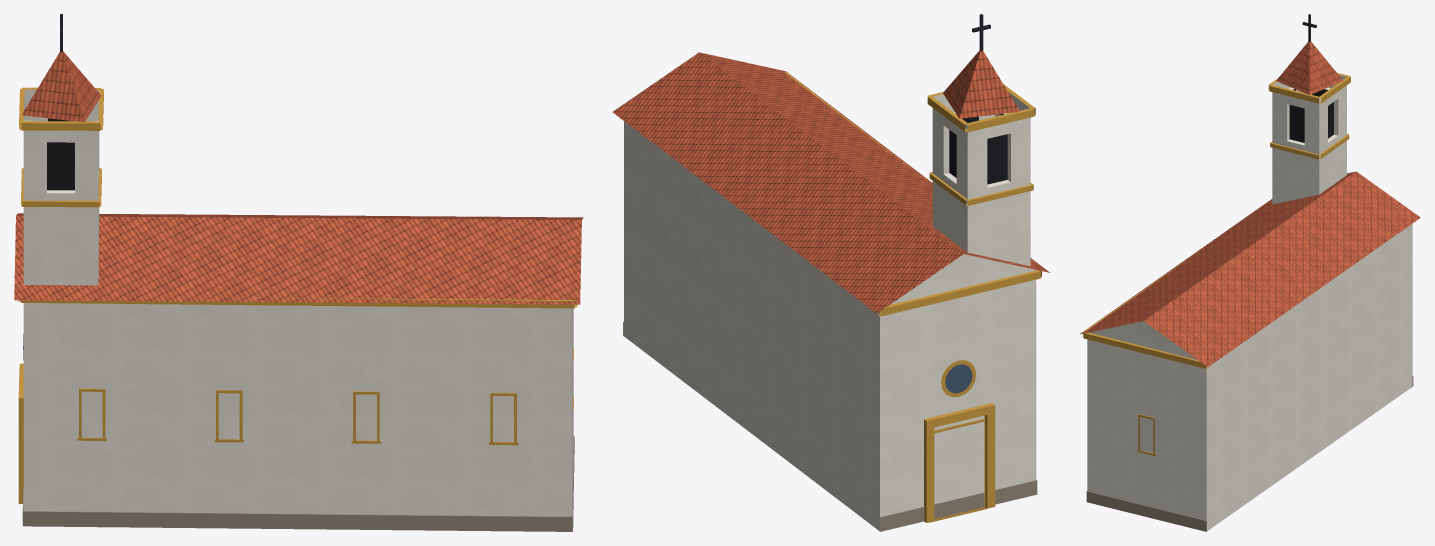
The picture shows the model from 3 angles, left to right: view 1: azimuth 30°, elevation 25°; view 2: azimuth 150°, elevation 25°; view 3: azimuth 270°, elevation 25°; orthographic projection. The views are drawn at different scales.
Visible parts, largest first — view 1: B-w720874799_muros, B-w720874799_cubierta, B-w720874799_lejos, B-w720874799_remates, B-w720874799_molduras; view 2: B-w720874799_lejos, B-w720874799_cubierta, B-w720874799_remates, B-w720874799_muros, B-w720874799_molduras; view 3: B-w720874799_lejos, B-w720874799_cubierta, B-w720874799_remates, B-w720874799_muros, B-w720874799_molduras.
Part boxes in pixels (left/top/right/bottom): B-w720874799_muros: left=23, top=303, right=572, bottom=516; B-w720874799_cubierta: left=14, top=213, right=583, bottom=304; B-w720874799_lejos: left=81, top=304, right=573, bottom=514; B-w720874799_remates: left=18, top=14, right=103, bottom=503; B-w720874799_molduras: left=18, top=297, right=577, bottom=531; B-w720874799_lejos: left=624, top=121, right=1036, bottom=531; B-w720874799_cubierta: left=612, top=52, right=1049, bottom=313; B-w720874799_remates: left=924, top=14, right=1035, bottom=522; B-w720874799_muros: left=880, top=296, right=964, bottom=516; B-w720874799_molduras: left=619, top=72, right=1041, bottom=531; B-w720874799_lejos: left=1087, top=223, right=1412, bottom=531; B-w720874799_cubierta: left=1080, top=171, right=1420, bottom=366; B-w720874799_remates: left=1268, top=14, right=1350, bottom=204; B-w720874799_muros: left=1088, top=339, right=1150, bottom=506; B-w720874799_molduras: left=1083, top=221, right=1415, bottom=531.
Bounding box in the file's own units: 25.34 × 23.42 × 20.06.
4 materials, 4 textured.
